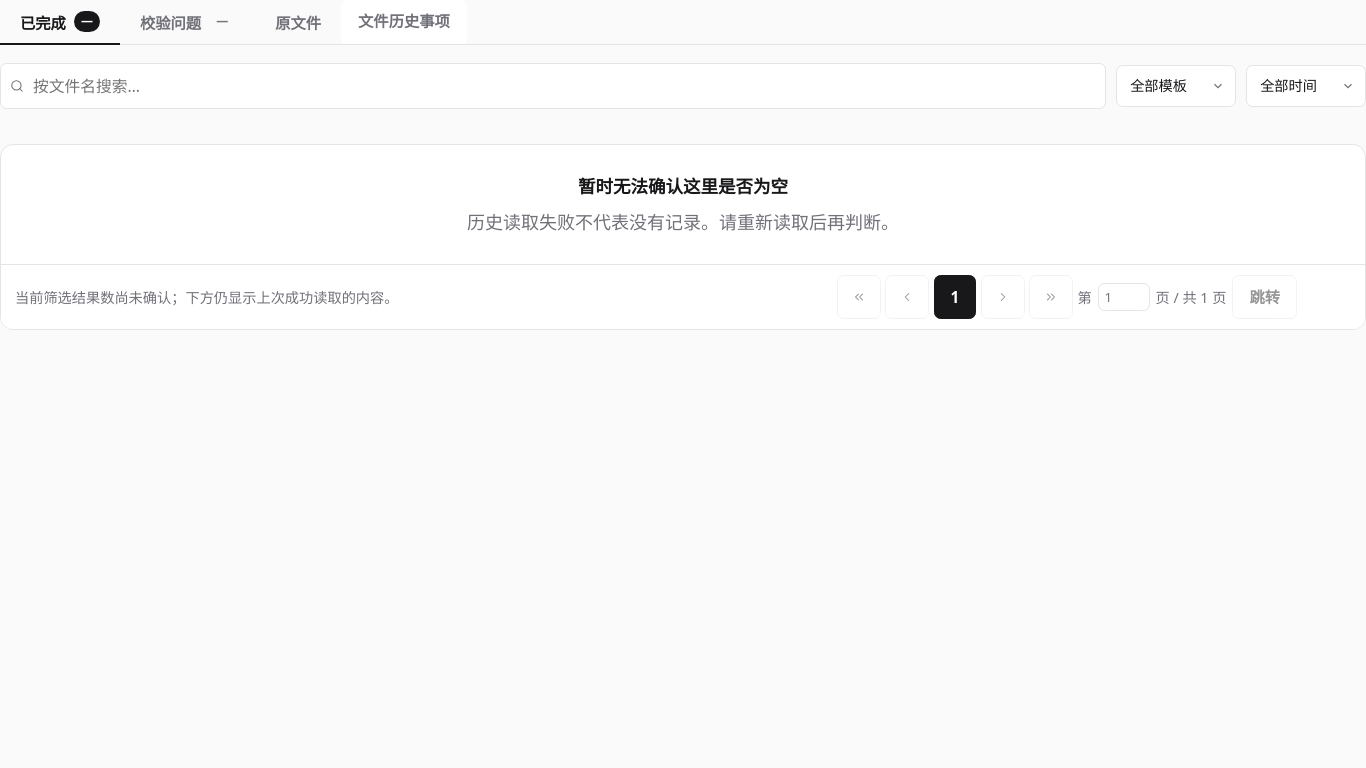
HistoryPage request races › does not present an unreadable history as empty and lets the first read retry
Click the button "文件历史事项".
click(404, 22)  # box [341,0,467,44]
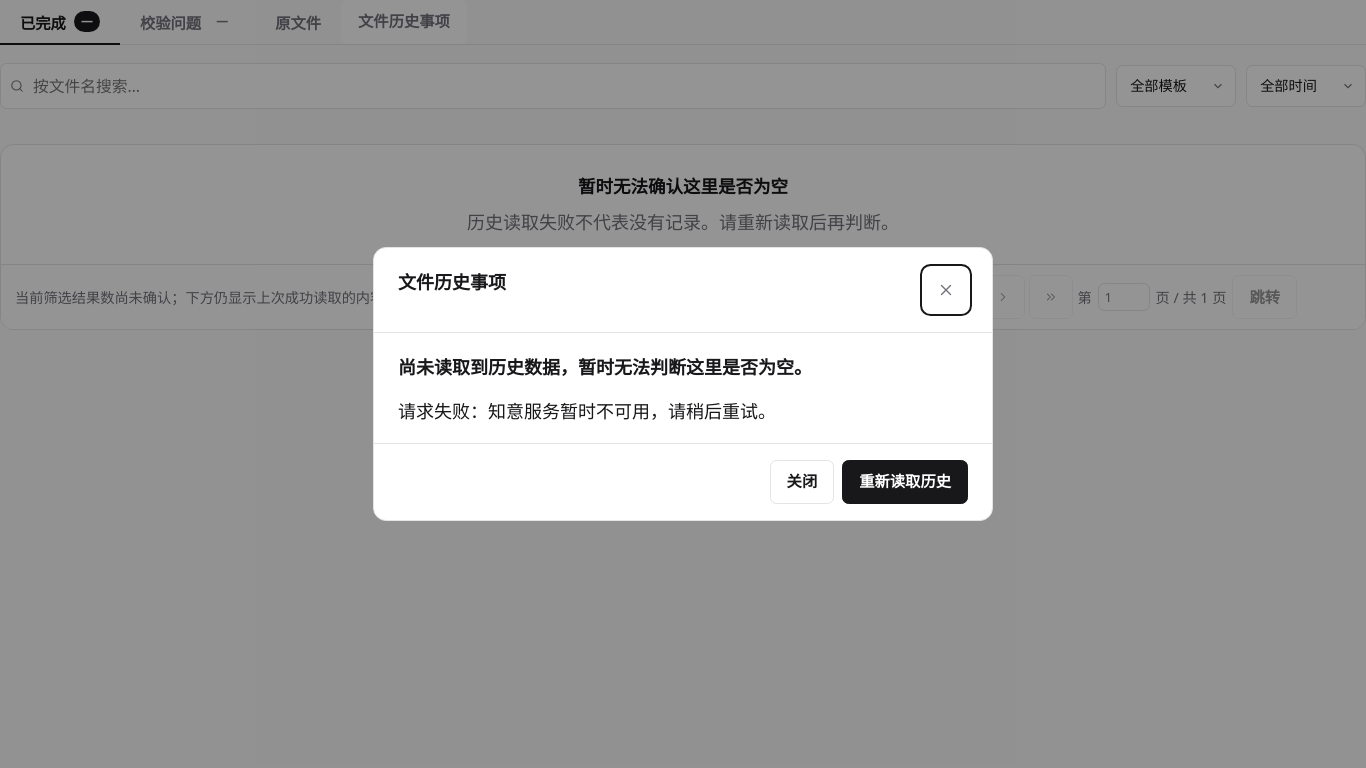
Expected: the dialog "文件历史事项" shows "尚未读取到历史数据", [398,355,812,379]
Expected: the dialog "文件历史事项" shows "知意服务暂时不可用，请稍后重试", [398,399,776,423]
Expected: the button "重新读取历史" is enabled
Click the button "重新读取历史".
click(905, 482)  # box [842,460,968,504]
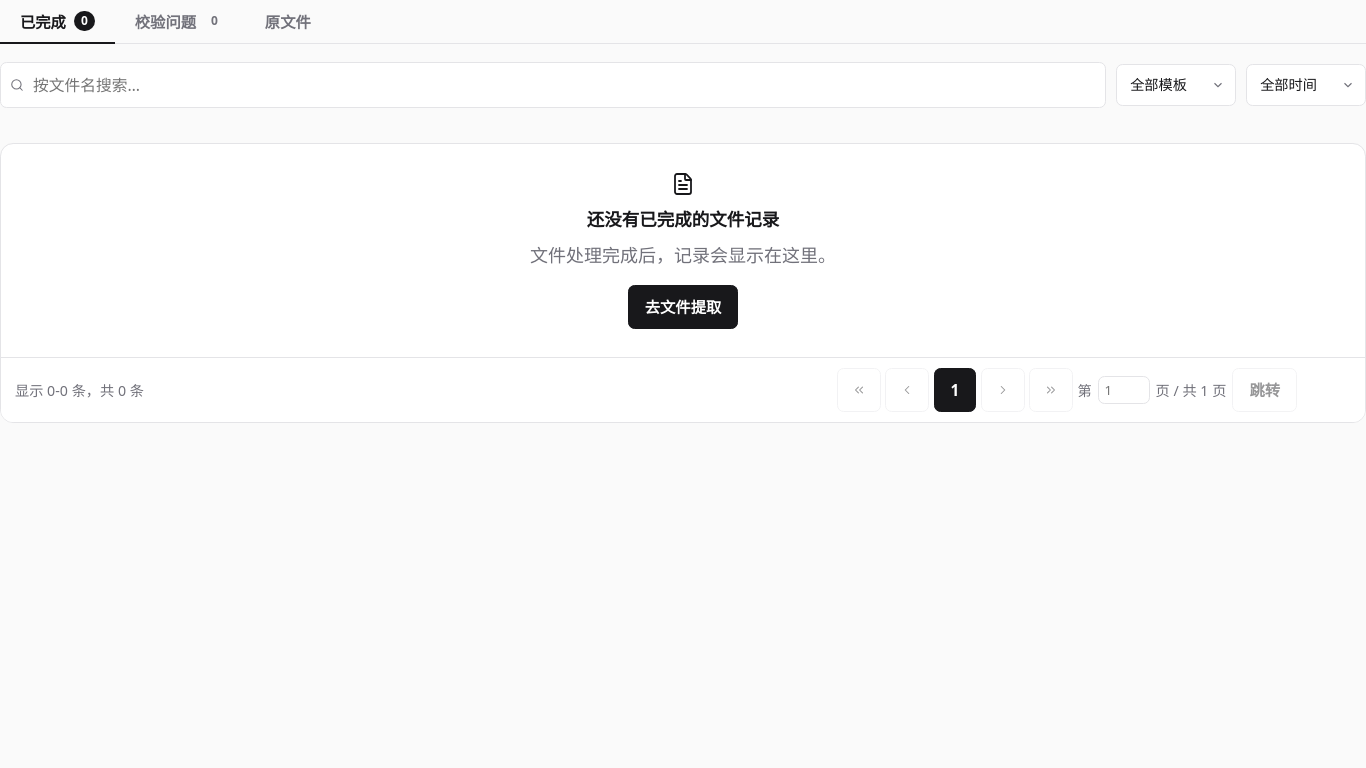
Expected: the text "还没有已完成的文件记录" is shown, [587,206,779,230]
Expected: the button "去文件提取" is shown, [628,285,738,329]
